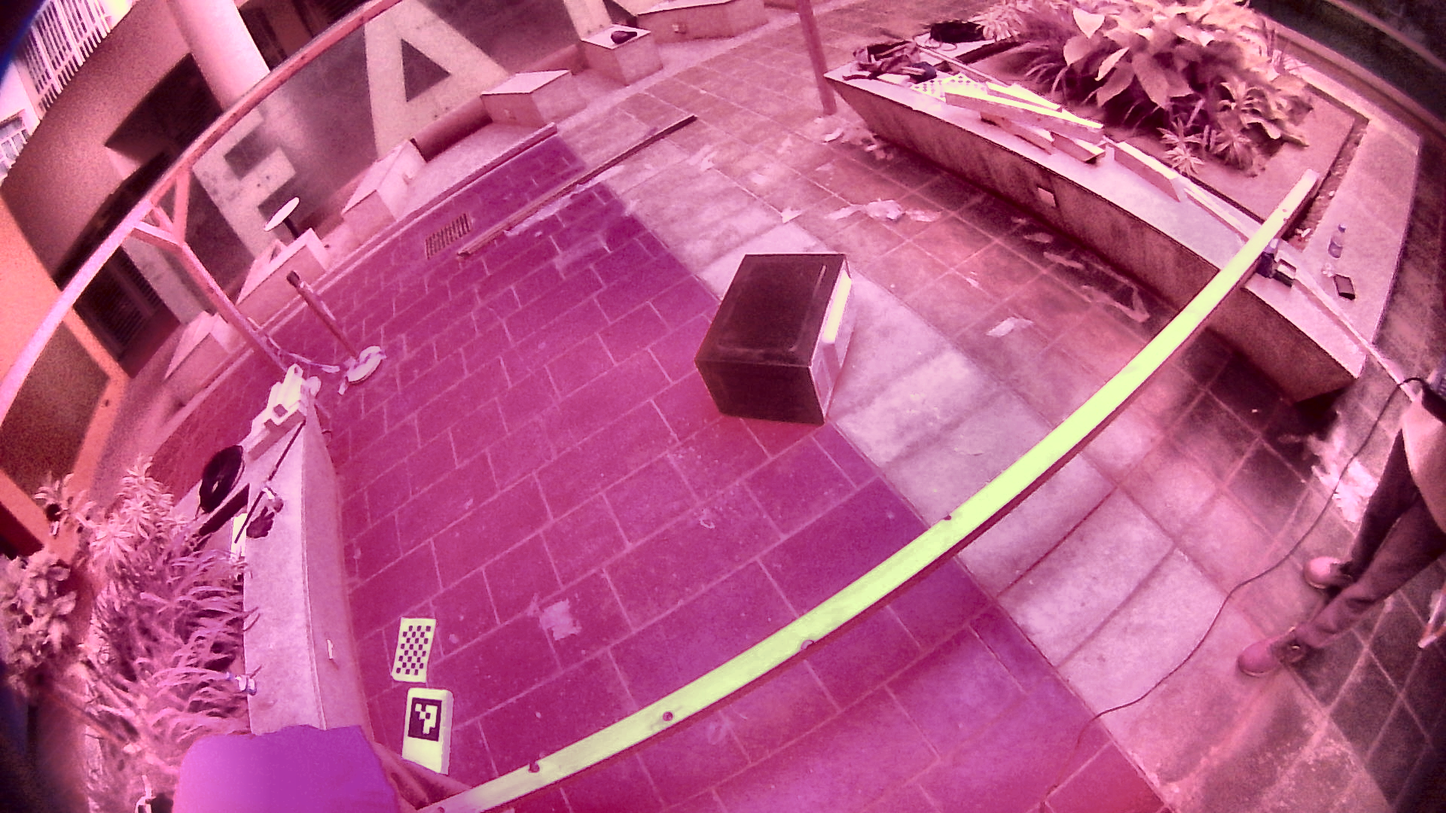MicroWave: (687, 231, 864, 435)
